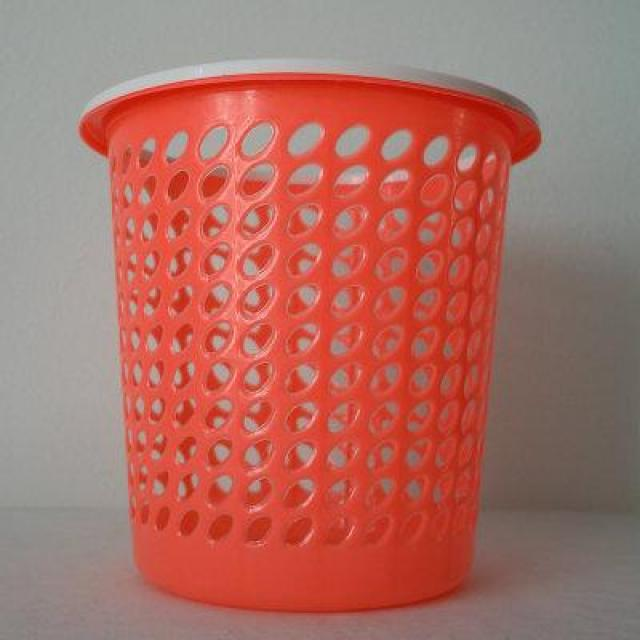Dustbin: (74, 52, 546, 614)
